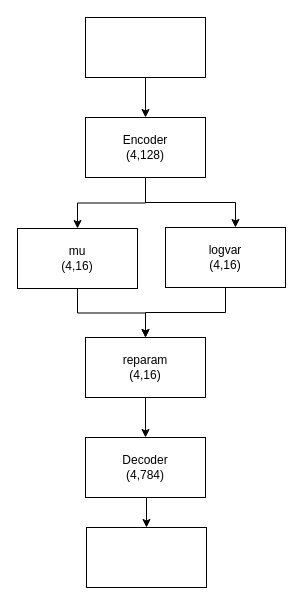
The diagram is 303 pixels wide and 605 high, and some of its shapes have lost their labels. Here are the shapes that lost their labels. From the top down, the box of each, then its label:
(84, 16, 206, 78): INPUT (4,784)
(86, 526, 206, 588): OUTPUT (4,784)
